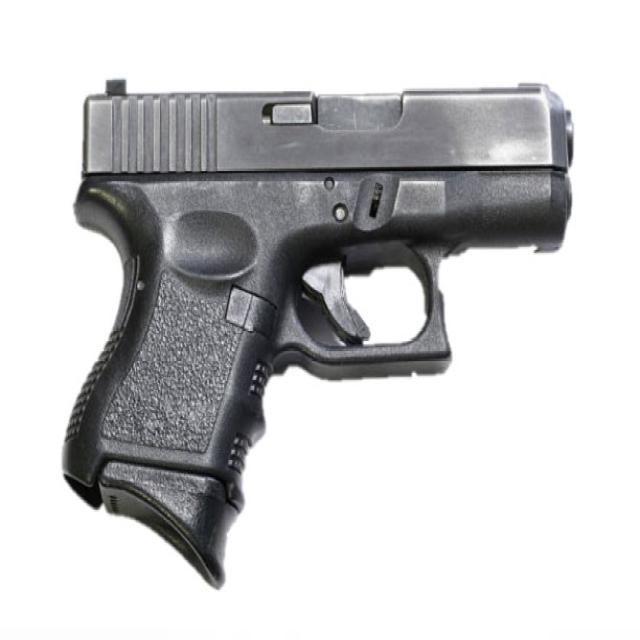pistol: (51, 72, 587, 594)
